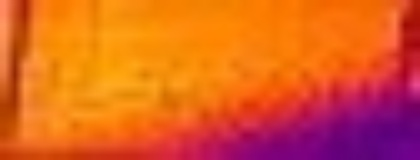Shadow: (207, 71, 420, 160)
